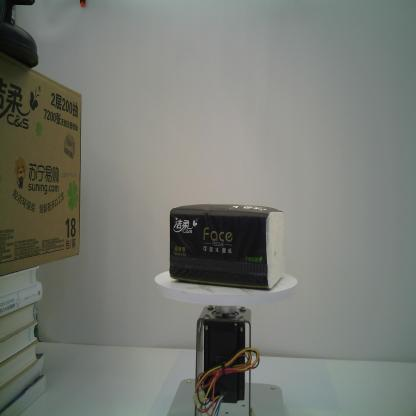Tissue: (168, 201, 286, 291)
